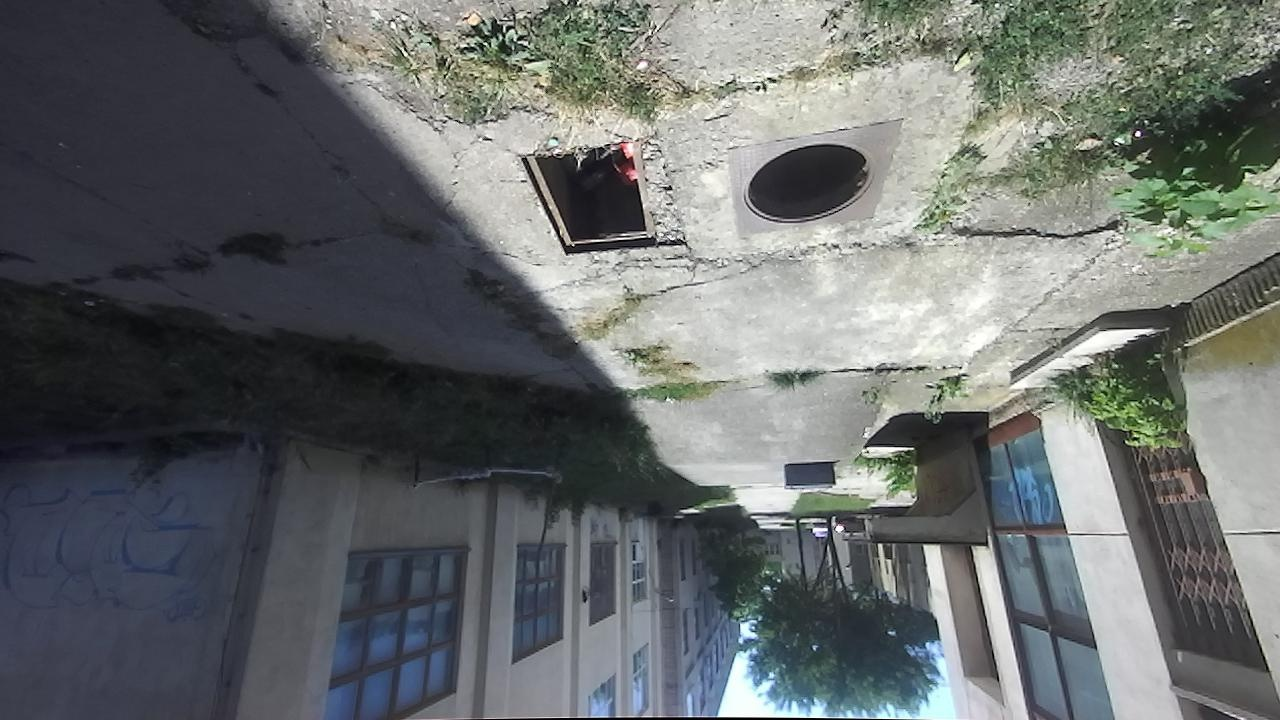drain: (511, 135, 662, 263), (738, 138, 875, 229)
